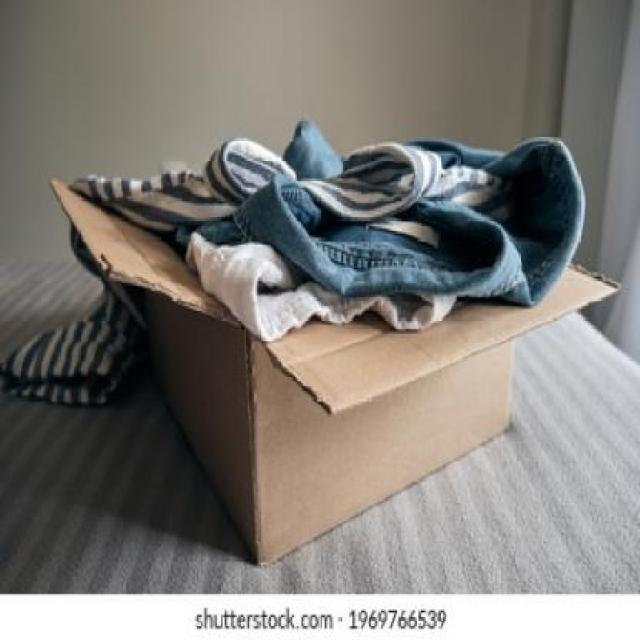box: (54, 173, 604, 565)
